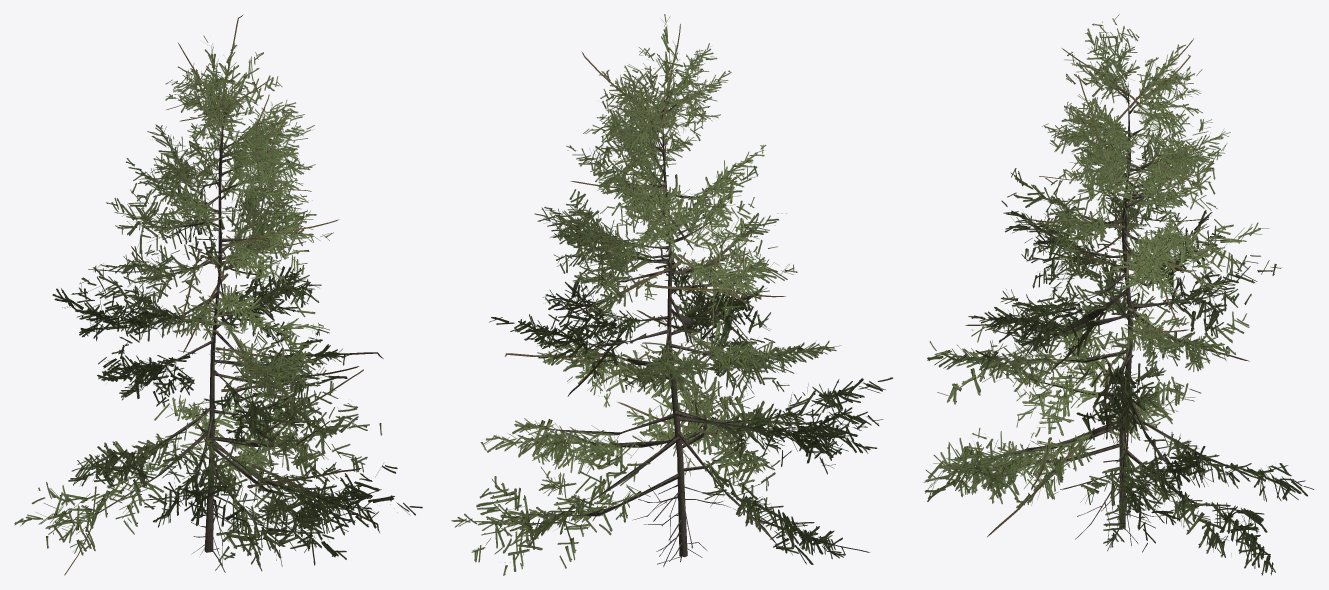
The model's file is gtree_fir2.far.glb.
3 views of the same model, side by side, from view 1: azimuth 30°, elevation 25°; view 2: azimuth 150°, elevation 25°; view 3: azimuth 270°, elevation 25° (orthographic). The views are drawn at different scales.
Parts seen in each view (by area): view 1: gtree_fir2_v0_lod0; view 2: gtree_fir2_v0_lod0; view 3: gtree_fir2_v0_lod0.
Boxes of the visible parts, left/top/right/bottom form: gtree_fir2_v0_lod0: left=14, top=14, right=422, bottom=575; gtree_fir2_v0_lod0: left=451, top=14, right=893, bottom=575; gtree_fir2_v0_lod0: left=923, top=14, right=1314, bottom=575.
Bounding box in the file's own units: 4.38 × 6.01 × 4.06.
Materials: 3 (3 with a texture image).
